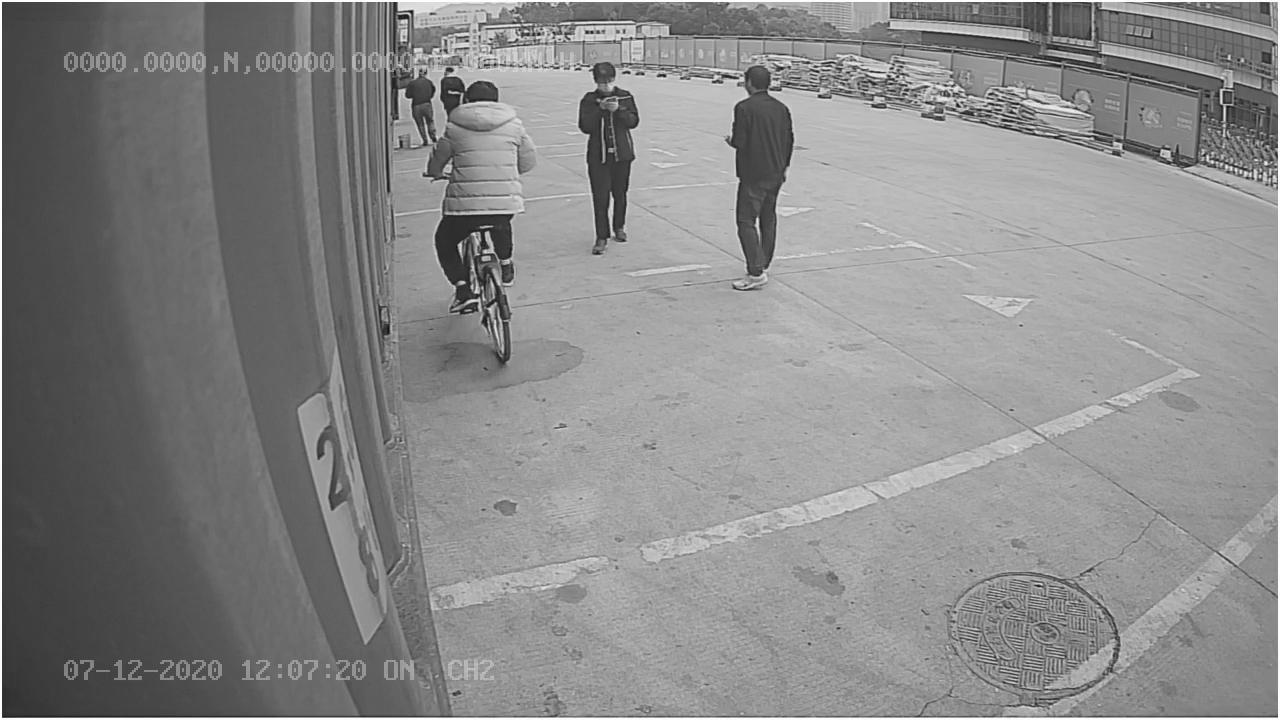person: (717, 63, 802, 296)
